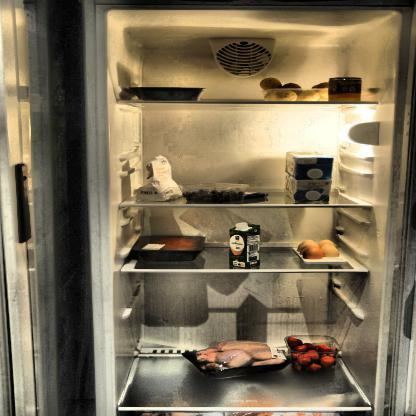beef: (137, 234, 206, 258)
blueberries: (184, 188, 245, 202)
chicken: (187, 339, 287, 377)
corn: (329, 78, 363, 100)
eggs: (297, 238, 341, 262)
heavy_cream: (230, 222, 262, 268)
milk: (286, 152, 334, 180), (287, 179, 331, 204)
potato: (260, 77, 336, 101)
strawberries: (287, 338, 340, 374)
